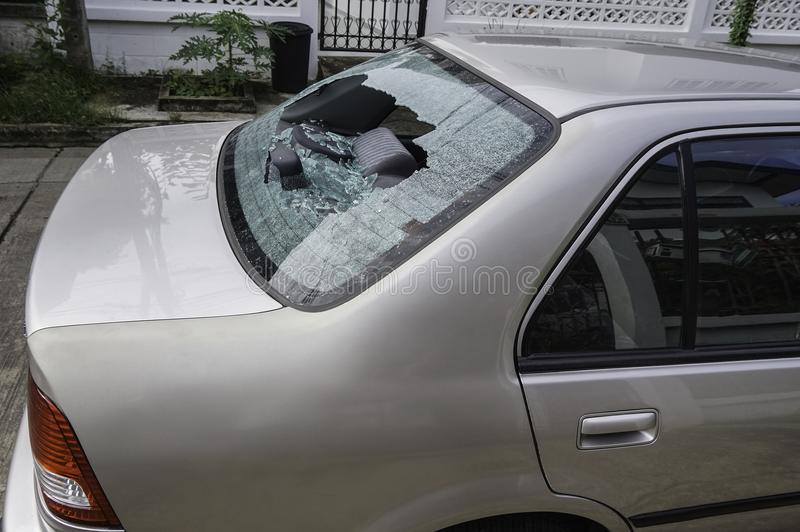Rear-windscreen-Damage: (209, 49, 535, 322)
